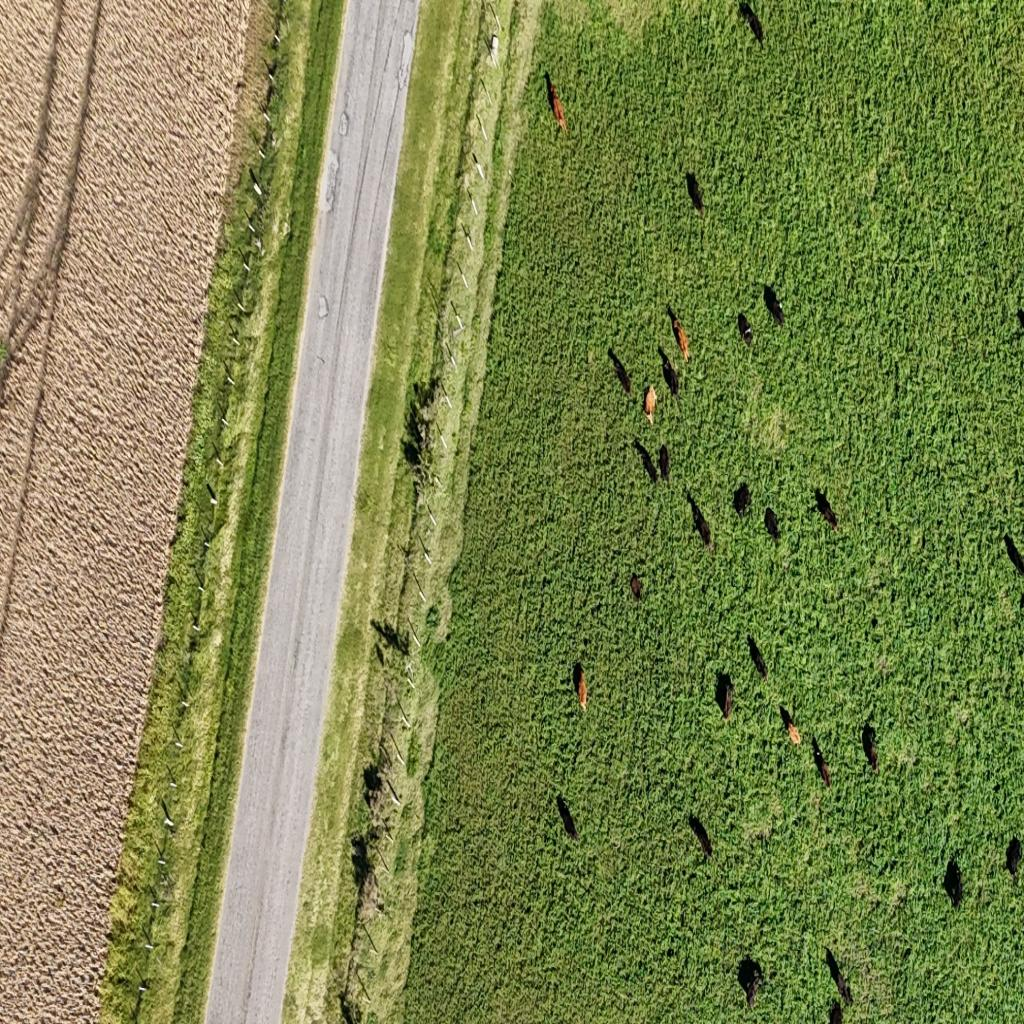cow: (542, 70, 566, 134), (1002, 531, 1024, 597), (738, 956, 764, 1010), (665, 308, 687, 365), (737, 1, 764, 47), (689, 813, 713, 862), (634, 437, 658, 485), (814, 487, 840, 531), (943, 856, 964, 910), (556, 793, 579, 842), (811, 734, 831, 790), (862, 722, 880, 778), (685, 171, 706, 218), (715, 671, 734, 722), (692, 504, 712, 552), (780, 706, 802, 749), (748, 634, 768, 680), (764, 285, 784, 329), (1004, 836, 1023, 880), (732, 482, 752, 520), (616, 353, 634, 395), (574, 663, 589, 712), (663, 359, 679, 402), (764, 506, 782, 543), (738, 312, 755, 350), (686, 489, 702, 524), (644, 385, 657, 427), (658, 444, 670, 484), (544, 71, 556, 109), (828, 1000, 844, 1024), (630, 573, 642, 602), (136, 976, 150, 997), (1019, 309, 1024, 332)
